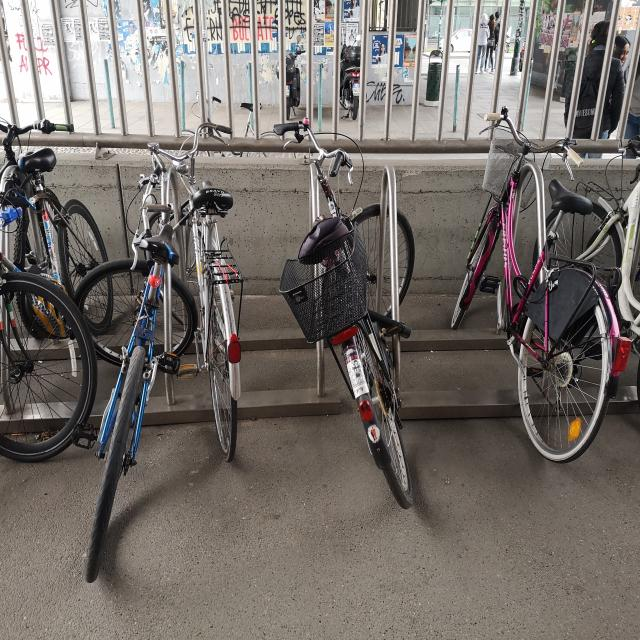Bicycle: (281, 87, 409, 548), (472, 100, 614, 488), (99, 153, 178, 578), (0, 117, 93, 469), (182, 126, 228, 477), (565, 152, 640, 356)
